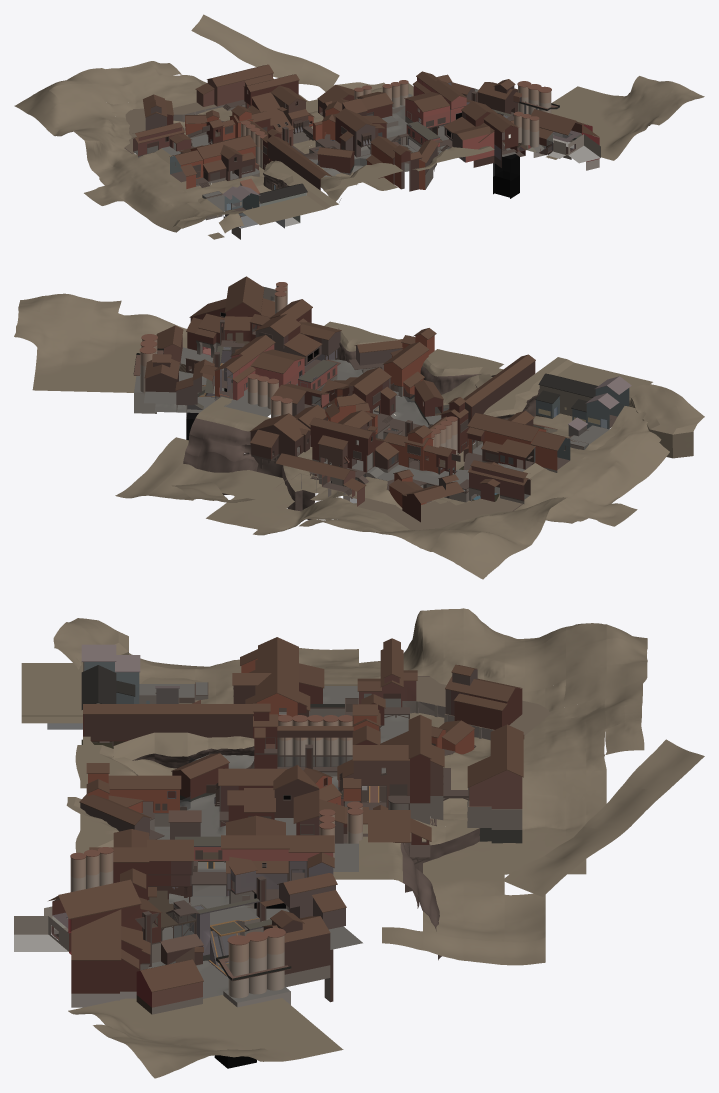
Rendered from world.glb.
3 views of the same model, one above another, from view 1: azimuth 30°, elevation 25°; view 2: azimuth 150°, elevation 25°; view 3: azimuth 270°, elevation 25° (orthographic). The views are drawn at different scales.
Visible parts, largest first — view 1: chunk_0_1_mesh, chunk_1_1_mesh, chunk_0_2_mesh, chunk_2_0_mesh, chunk_2_1_mesh, chunk_1_0_mesh, chunk_0_3_mesh, chunk_0_0_mesh, chunk_1_2_mesh, chunk_1_3_mesh, chunk_3_1_mesh, chunk_3_0_mesh (+5 smaller); view 2: chunk_1_2_mesh, chunk_0_0_mesh, chunk_0_1_mesh, chunk_2_1_mesh, chunk_0_2_mesh, chunk_1_1_mesh, chunk_2_0_mesh, chunk_1_0_mesh, chunk_2_2_mesh, chunk_3_1_mesh, chunk_3_0_mesh, chunk_0_3_mesh (+3 smaller); view 3: chunk_2_1_mesh, chunk_1_2_mesh, chunk_1_1_mesh, chunk_0_2_mesh, chunk_2_0_mesh, chunk_1_3_mesh, chunk_1_0_mesh, chunk_2_2_mesh, chunk_0_3_mesh, chunk_0_0_mesh, chunk_3_1_mesh, chunk_3_0_mesh (+5 smaller).
Boxes of the visible parts, left/top/right/bottom form: chunk_0_1_mesh: left=84, top=135, right=272, bottom=224; chunk_1_1_mesh: left=233, top=87, right=413, bottom=178; chunk_0_2_mesh: left=52, top=94, right=223, bottom=185; chunk_2_0_mesh: left=411, top=109, right=600, bottom=171; chunk_2_1_mesh: left=362, top=71, right=547, bottom=151; chunk_1_0_mesh: left=269, top=136, right=446, bottom=208; chunk_0_3_mesh: left=14, top=65, right=163, bottom=133; chunk_0_0_mesh: left=156, top=169, right=325, bottom=239; chunk_1_2_mesh: left=173, top=64, right=354, bottom=141; chunk_1_3_mesh: left=136, top=14, right=305, bottom=106; chunk_3_1_mesh: left=533, top=76, right=677, bottom=127; chunk_3_0_mesh: left=563, top=83, right=704, bottom=168; chunk_1_2_mesh: left=221, top=400, right=445, bottom=519; chunk_0_0_mesh: left=513, top=362, right=704, bottom=475; chunk_0_1_mesh: left=456, top=409, right=648, bottom=526; chunk_2_1_mesh: left=134, top=332, right=336, bottom=418; chunk_0_2_mesh: left=384, top=446, right=588, bottom=546; chunk_1_1_mesh: left=272, top=367, right=512, bottom=469; chunk_2_0_mesh: left=180, top=276, right=384, bottom=380; chunk_1_0_mesh: left=353, top=335, right=573, bottom=408; chunk_2_2_mesh: left=115, top=399, right=278, bottom=500; chunk_3_1_mesh: left=14, top=309, right=179, bottom=392; chunk_3_0_mesh: left=18, top=293, right=195, bottom=360; chunk_0_3_mesh: left=341, top=514, right=528, bottom=579; chunk_2_1_mesh: left=167, top=808, right=363, bottom=1002; chunk_1_2_mesh: left=356, top=702, right=545, bottom=908; chunk_1_1_mesh: left=171, top=693, right=368, bottom=868; chunk_0_2_mesh: left=346, top=608, right=550, bottom=751; chunk_2_0_mesh: left=14, top=816, right=203, bottom=971; chunk_1_3_mesh: left=525, top=712, right=704, bottom=874; chunk_1_0_mesh: left=21, top=704, right=201, bottom=839; chunk_2_2_mesh: left=359, top=813, right=545, bottom=965; chunk_0_3_mesh: left=525, top=623, right=647, bottom=737; chunk_0_0_mesh: left=21, top=618, right=200, bottom=745; chunk_3_1_mesh: left=169, top=935, right=343, bottom=1061; chunk_3_0_mesh: left=68, top=958, right=204, bottom=1078.
Size of what is drawn, in the model's own units: 13042 by 2592 by 8654.
